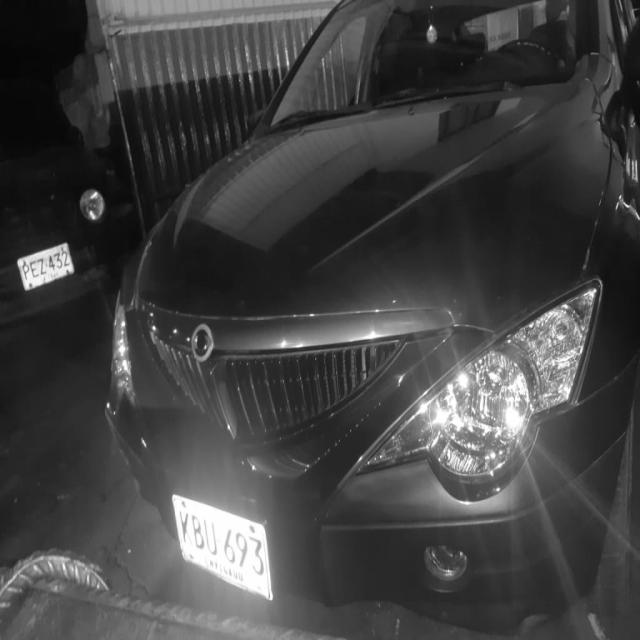plate: (169, 490, 274, 604)
